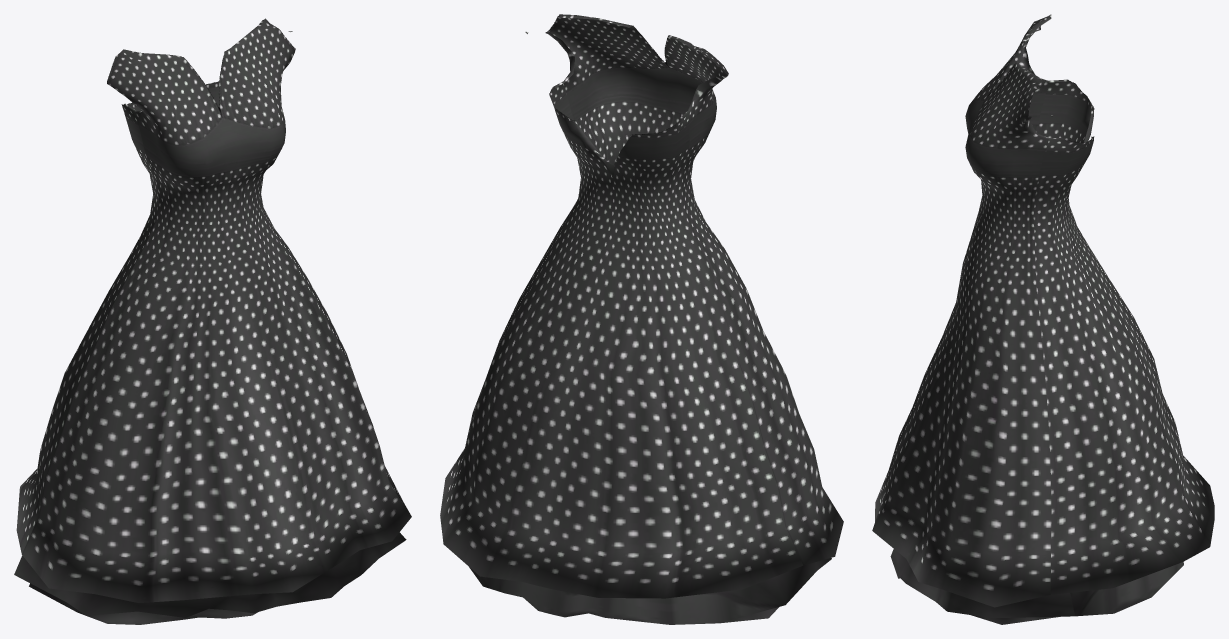
Rendered from Dress1.obj.
3 renders of one model, left to right at view 1: azimuth 30°, elevation 25°; view 2: azimuth 150°, elevation 25°; view 3: azimuth 270°, elevation 25°, orthographic. The views are drawn at different scales.
Visible parts, largest first — view 1: On_Da_m120Nワンピー_mesh_On_Da_m120Nワンピー; view 2: On_Da_m120Nワンピー_mesh_On_Da_m120Nワンピー; view 3: On_Da_m120Nワンピー_mesh_On_Da_m120Nワンピー.
Part boxes in pixels (left/top/right/bottom): On_Da_m120Nワンピー_mesh_On_Da_m120Nワンピー: left=14, top=18, right=411, bottom=624; On_Da_m120Nワンピー_mesh_On_Da_m120Nワンピー: left=440, top=14, right=843, bottom=624; On_Da_m120Nワンピー_mesh_On_Da_m120Nワンピー: left=872, top=14, right=1214, bottom=624.
Bounding box in the file's own units: 1.53 × 2.17 × 1.32.
